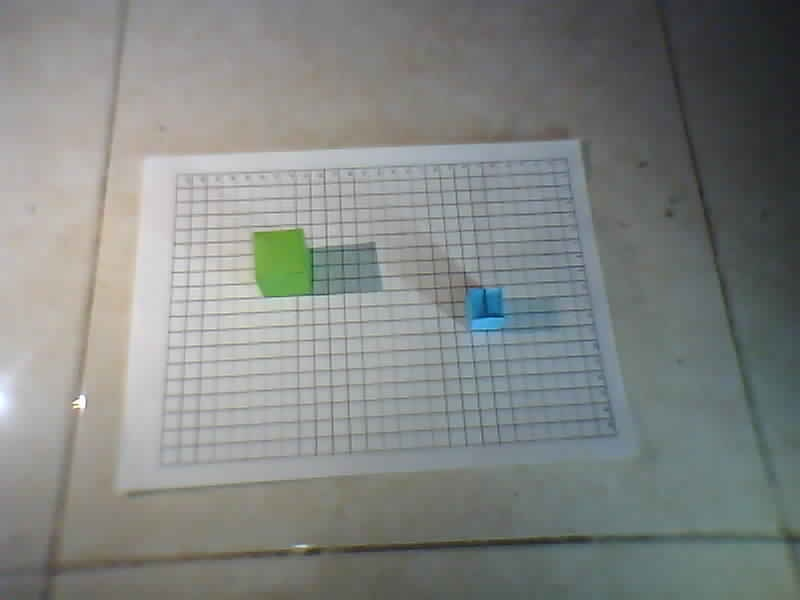LB: (157, 462, 165, 468)
LT: (173, 172, 181, 178)
RB: (611, 434, 619, 440)
RT: (563, 156, 571, 162)
